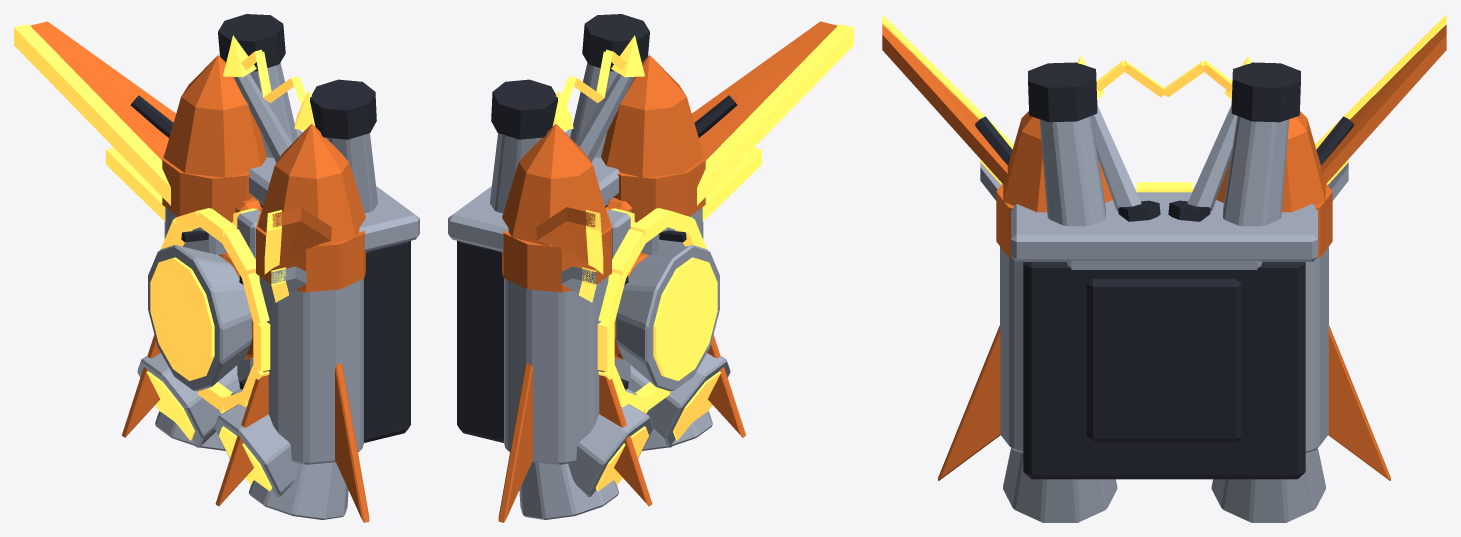
The model's file is boosters.glb.
3 views of the same model, side by side, from view 1: azimuth 30°, elevation 25°; view 2: azimuth 150°, elevation 25°; view 3: azimuth 270°, elevation 25° (orthographic). The views are drawn at different scales.
Parts seen in each view (by area): view 1: rocket, twin, comet, wisp, flicker; view 2: rocket, twin, comet, wisp, flicker; view 3: twin, rocket, wisp, thruster, flicker.
Boxes of the visible parts, box(x1,y1,x2,y2) form: rocket: box(122, 55, 369, 522); twin: box(137, 14, 419, 496); comet: box(148, 208, 270, 412); wisp: box(14, 21, 331, 302); flicker: box(223, 35, 315, 162); rocket: box(498, 55, 745, 522); twin: box(448, 14, 730, 496); comet: box(597, 208, 719, 412); wisp: box(536, 21, 853, 302); flicker: box(552, 35, 644, 162); twin: box(1011, 62, 1317, 479); rocket: box(938, 111, 1390, 522); wisp: box(882, 14, 1446, 200); thruster: box(1066, 260, 1262, 464); flicker: box(1078, 56, 1250, 278).
Size of the model in its own units: 0.675 by 1.23 by 1.38.
